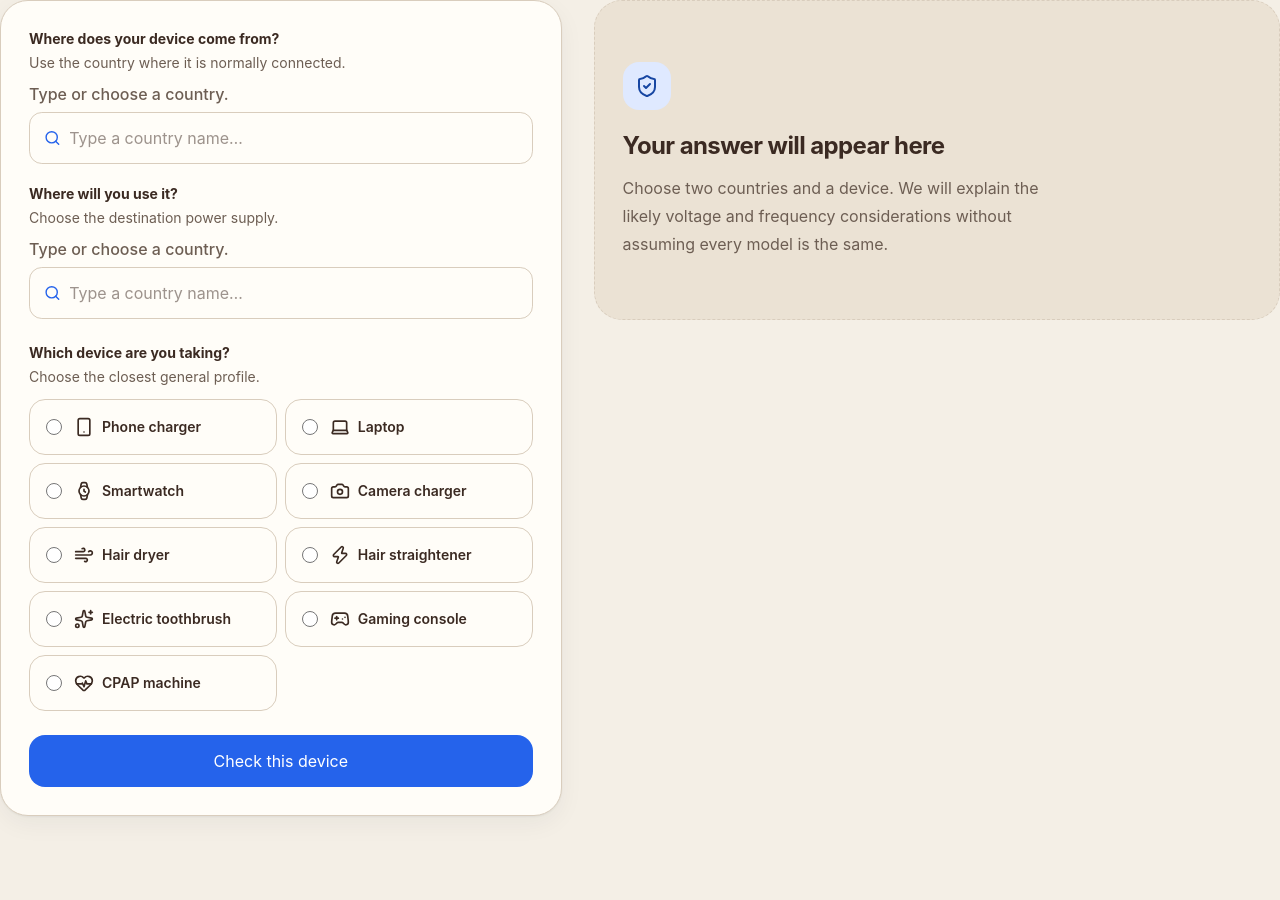
Test: device checker › returns cautious high-power guidance for a different voltage system
This screenshot has width=1280, height=900.
Step 1. Type "United Kingdom" into the dropdown named "Where does your device come from" → (296, 138), box left=69, top=126, right=523, bottom=150
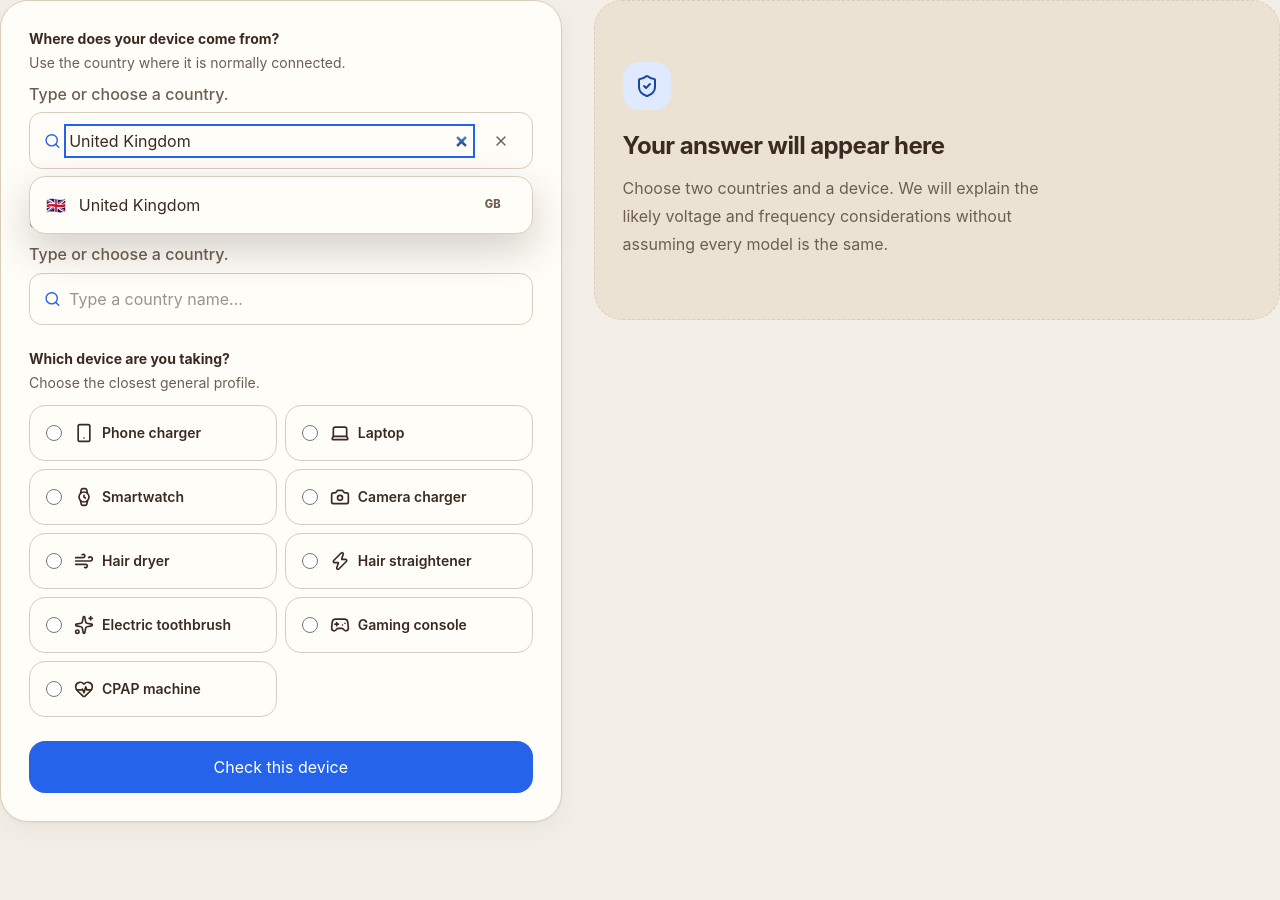
Step 2. Click the option "🇬🇧 United Kingdom GB" → (140, 205), box left=36, top=182, right=511, bottom=227
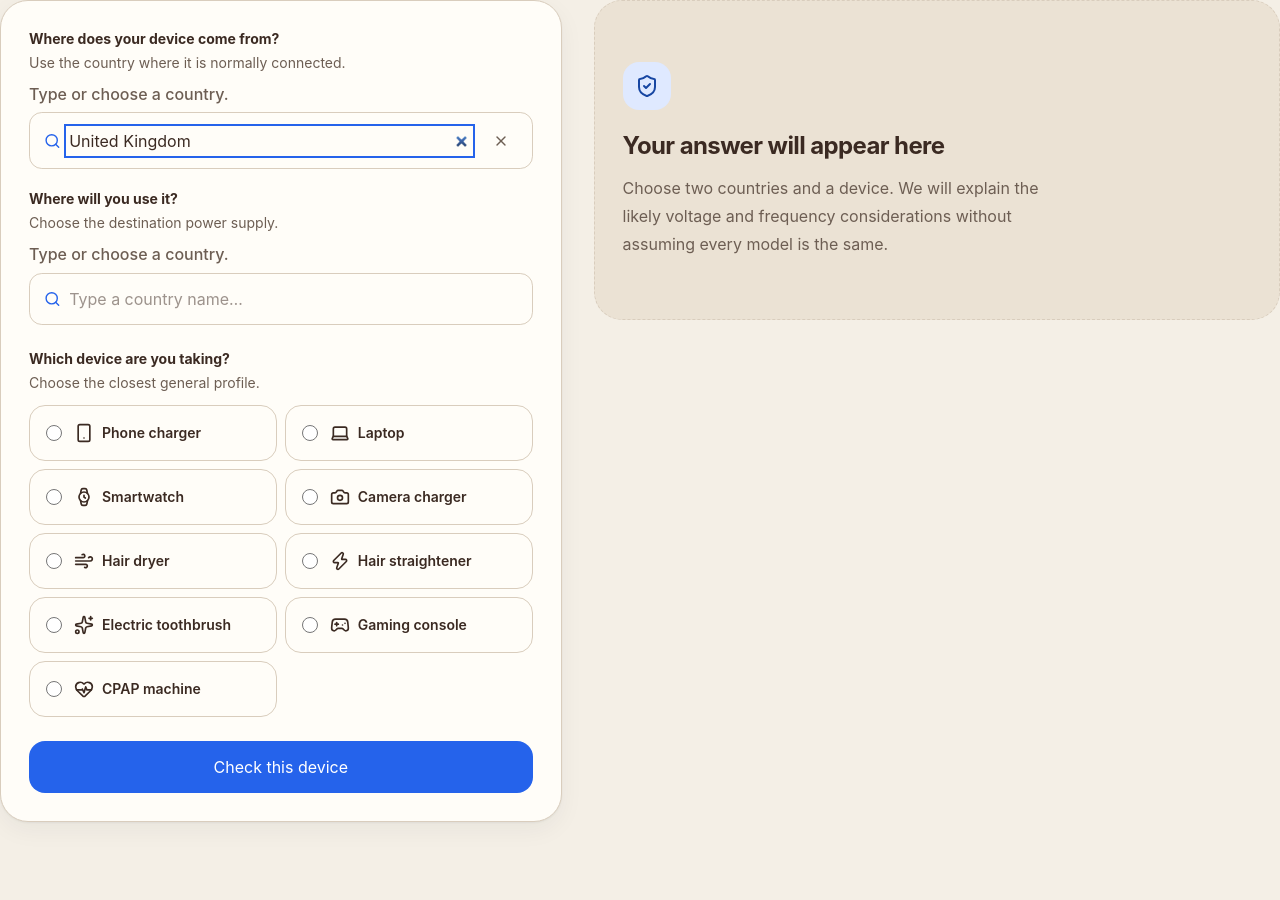
Step 3. Type "Japan" into the dropdown named "Where will you use it" → (296, 299), box left=69, top=287, right=523, bottom=311
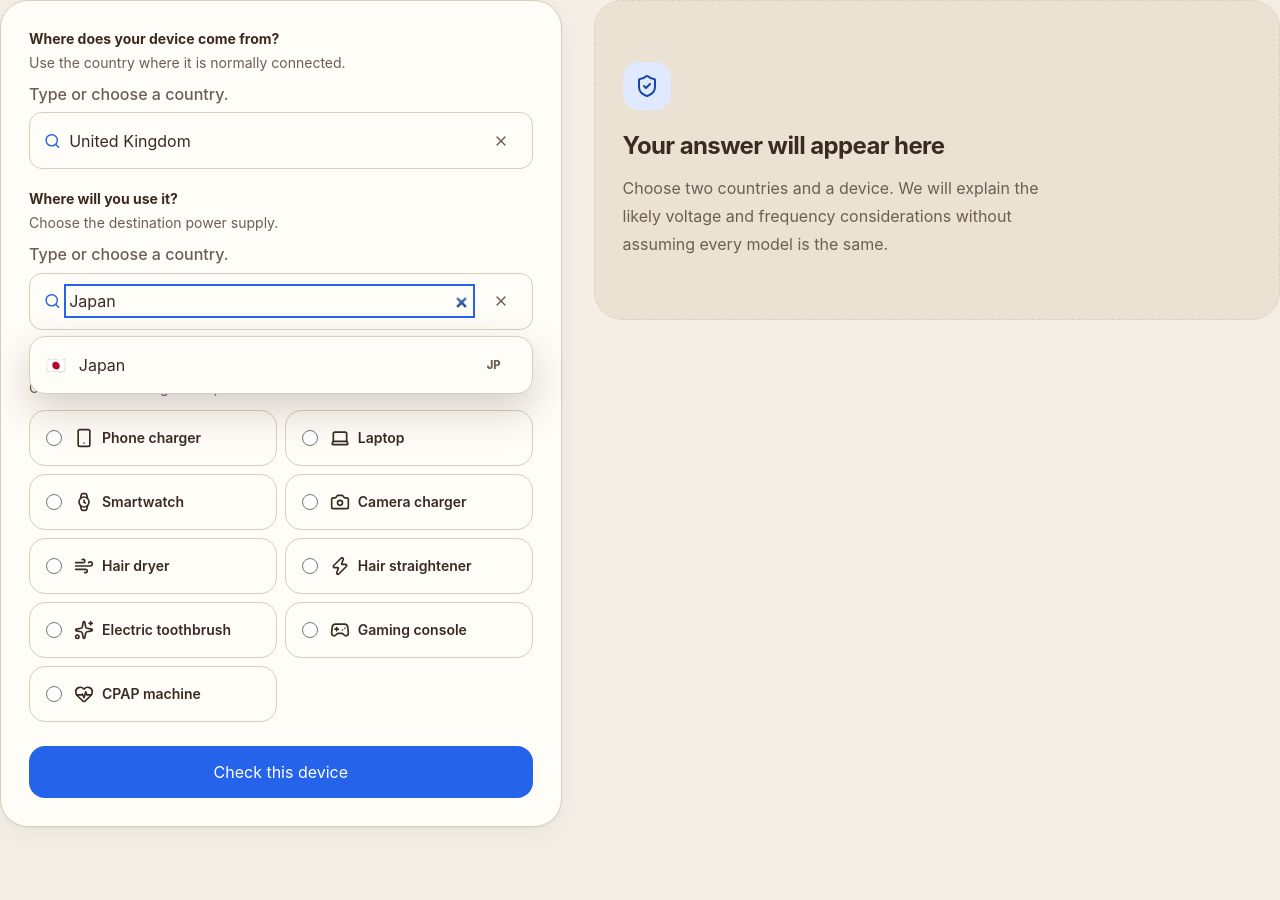
Step 4. Click the option "🇯🇵 Japan JP" → (102, 365), box left=36, top=343, right=511, bottom=388
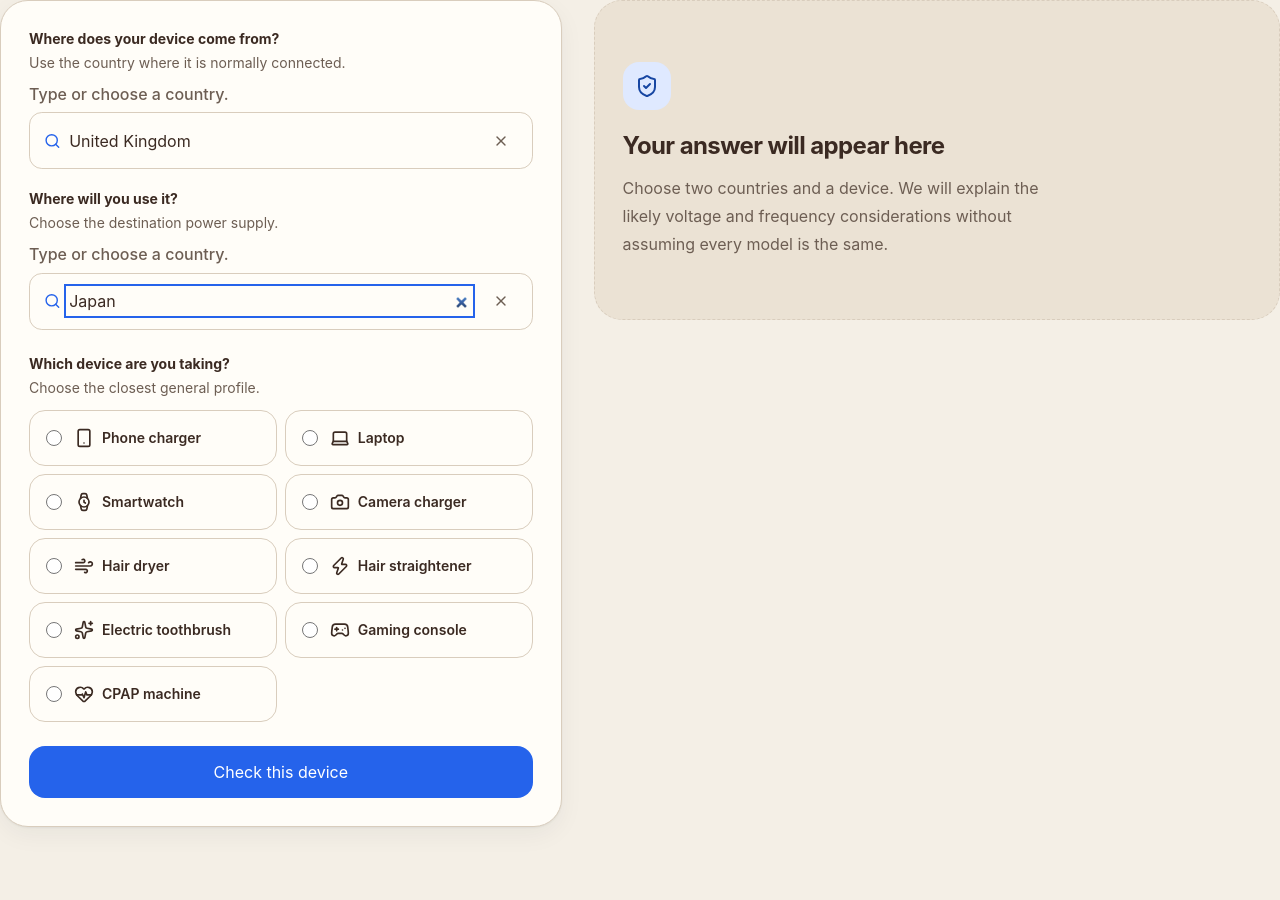
Step 5. Click the radio button labelled "Hair dryer" → (54, 566), box left=46, top=558, right=62, bottom=574
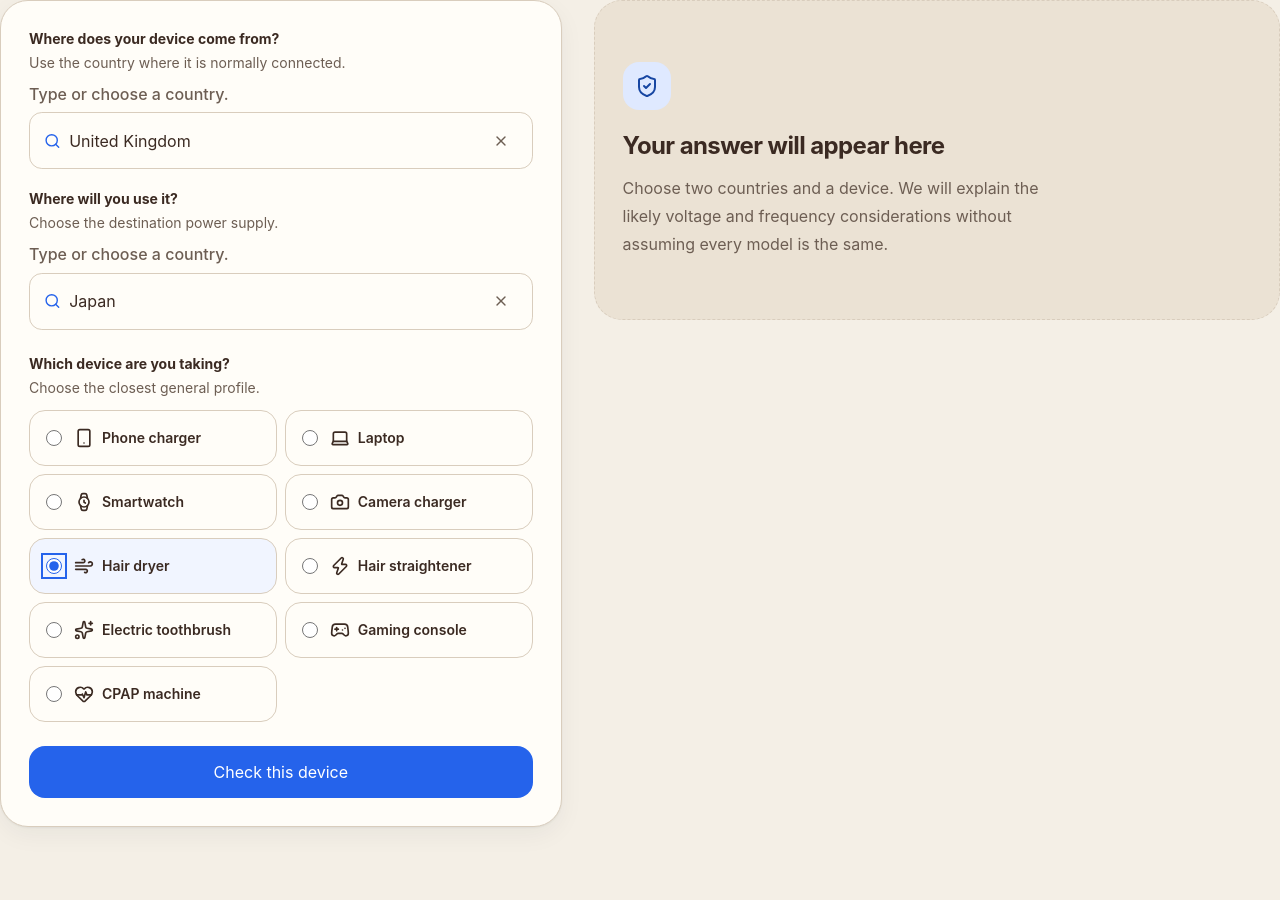
Step 6. Click the button "Check this device" → (281, 772), box left=29, top=746, right=533, bottom=798
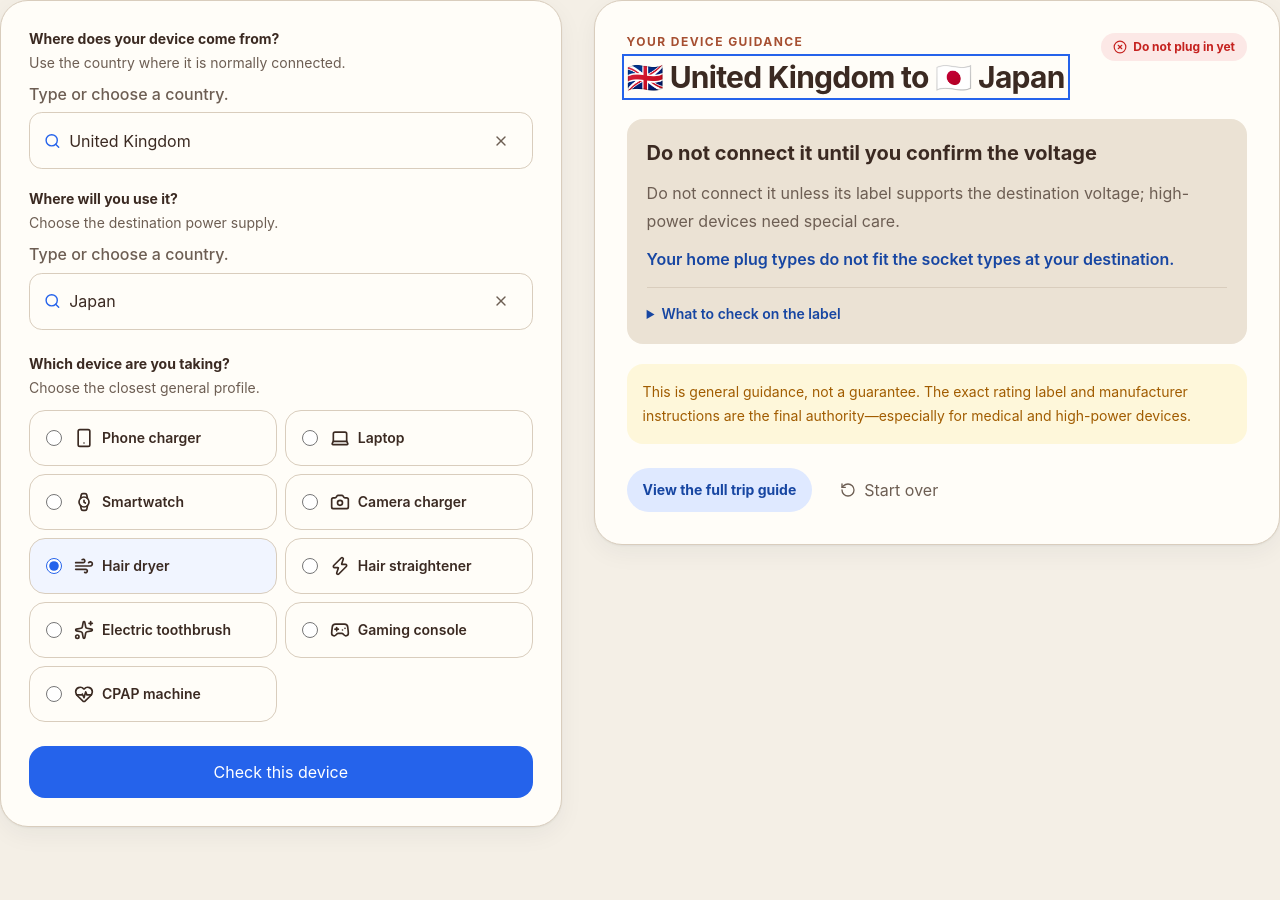
Now the text "Do not connect it unless its label supports" is shown, box left=647, top=183, right=1189, bottom=231
